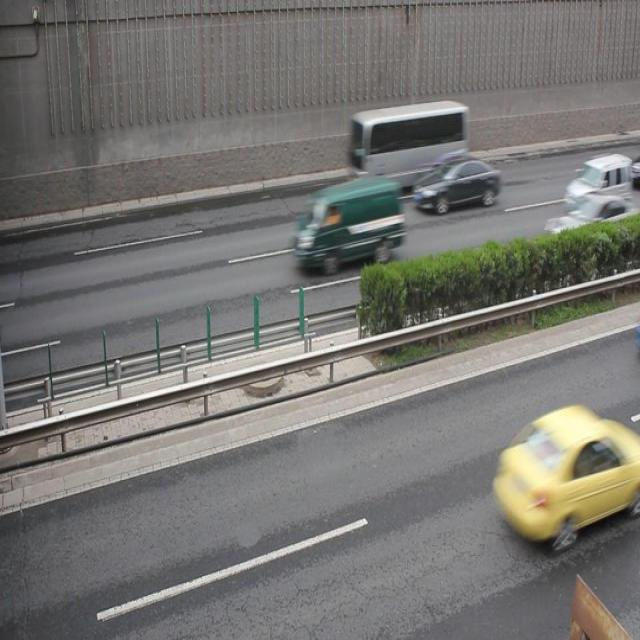car: (491, 407, 640, 542), (542, 193, 640, 251), (411, 158, 500, 208)
truck: (292, 179, 401, 271), (564, 153, 640, 211)
van: (348, 96, 468, 191)
